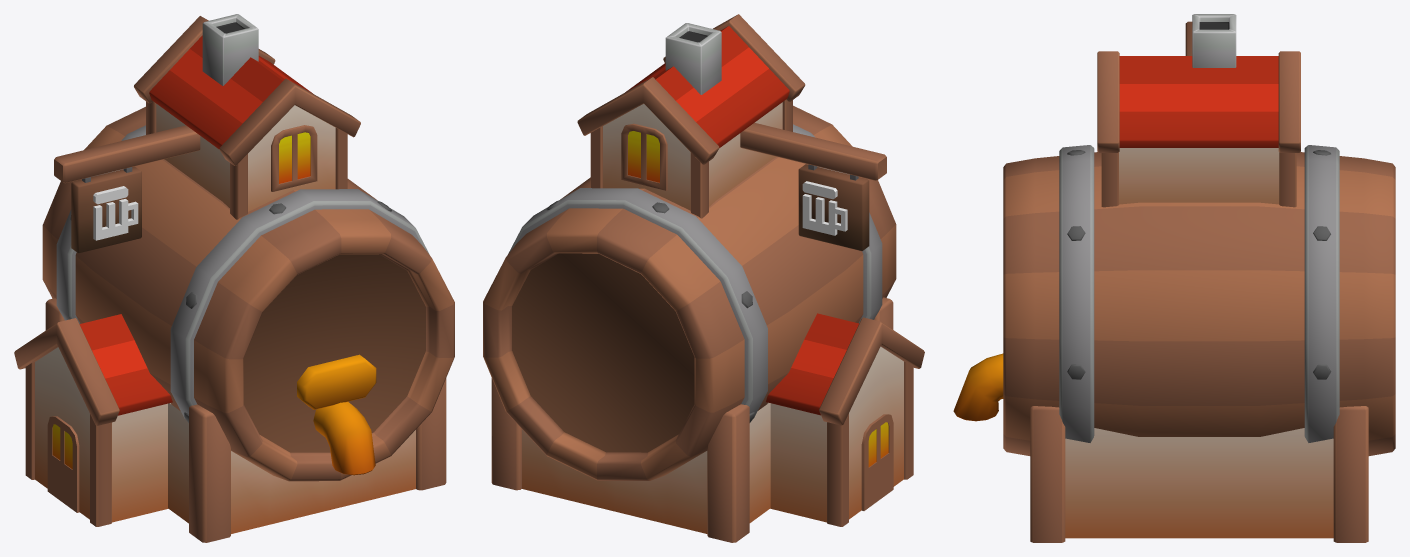
Rendered from BeerHouse_1.fbx.
3 views of the same model, side by side, from view 1: azimuth 30°, elevation 25°; view 2: azimuth 150°, elevation 25°; view 3: azimuth 270°, elevation 25° (orthographic). The views are drawn at different scales.
Parts seen in each view (by area): view 1: BeerHouse_1; view 2: BeerHouse_1; view 3: BeerHouse_1.
Part boxes in pixels (left/top/right/bottom): BeerHouse_1: left=14, top=14, right=454, bottom=542; BeerHouse_1: left=483, top=14, right=924, bottom=542; BeerHouse_1: left=953, top=14, right=1395, bottom=542.
Bounding box in the file's own units: 334 × 423 × 374.
